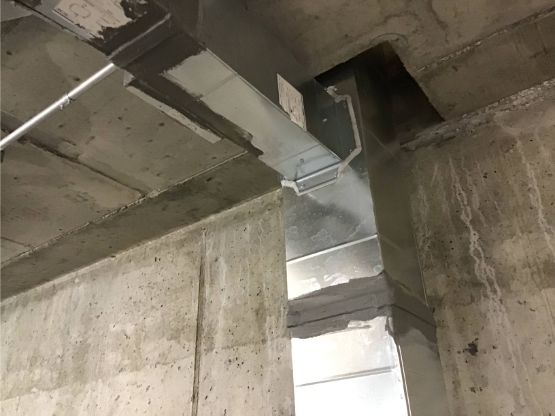Duct: (1, 1, 368, 181), (273, 61, 457, 416)
